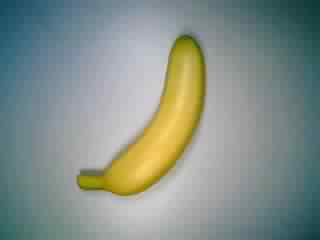banana: (77, 34, 211, 197)
